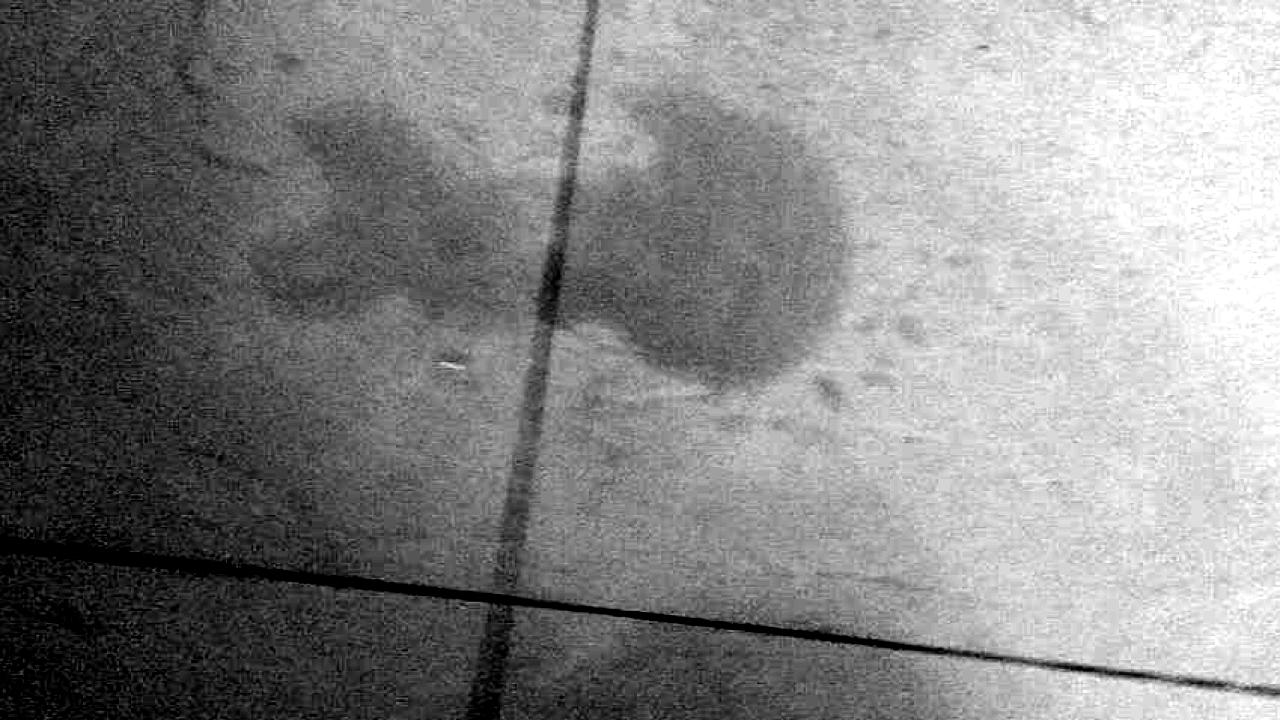drinks Stains: (247, 62, 845, 428)
